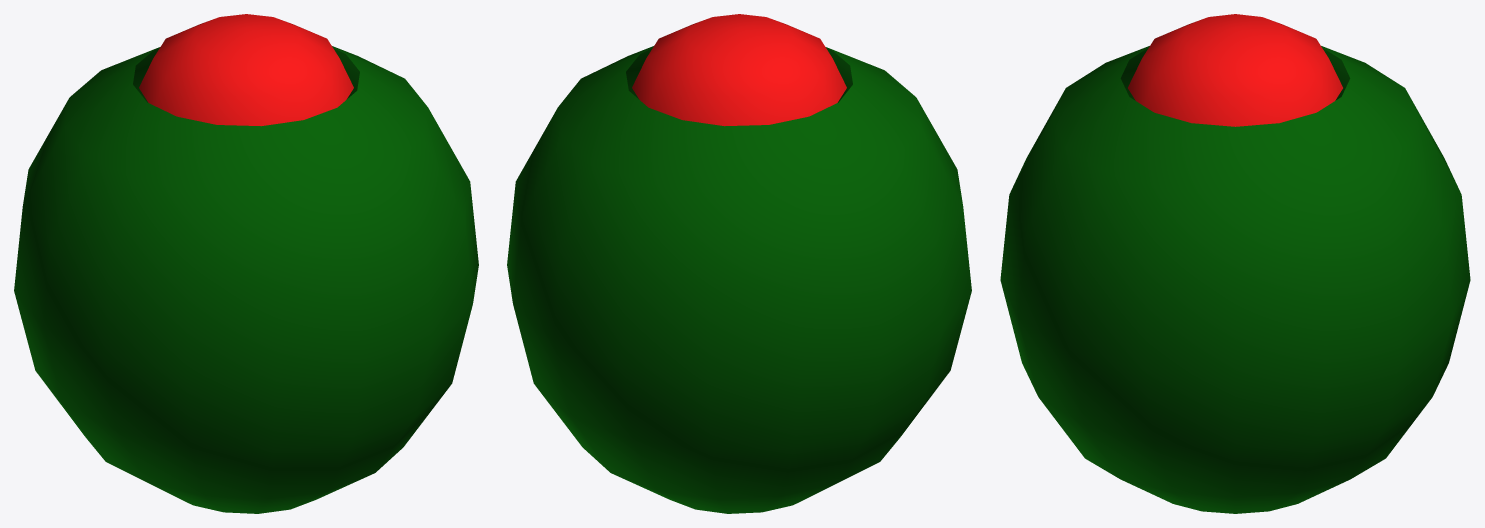
Rendered from Olive.FBX.
The picture shows the model from 3 angles, left to right: view 1: azimuth 30°, elevation 25°; view 2: azimuth 150°, elevation 25°; view 3: azimuth 270°, elevation 25°; orthographic projection.
Parts seen in each view (by area): view 1: Sphere020; view 2: Sphere020; view 3: Sphere020.
Boxes of the visible parts, x1,y1,x2,y2 form: Sphere020: (14, 14, 478, 513); Sphere020: (507, 14, 971, 513); Sphere020: (1000, 14, 1470, 513).
Bounding box in the file's own units: 81.68 × 87.71 × 81.68.
